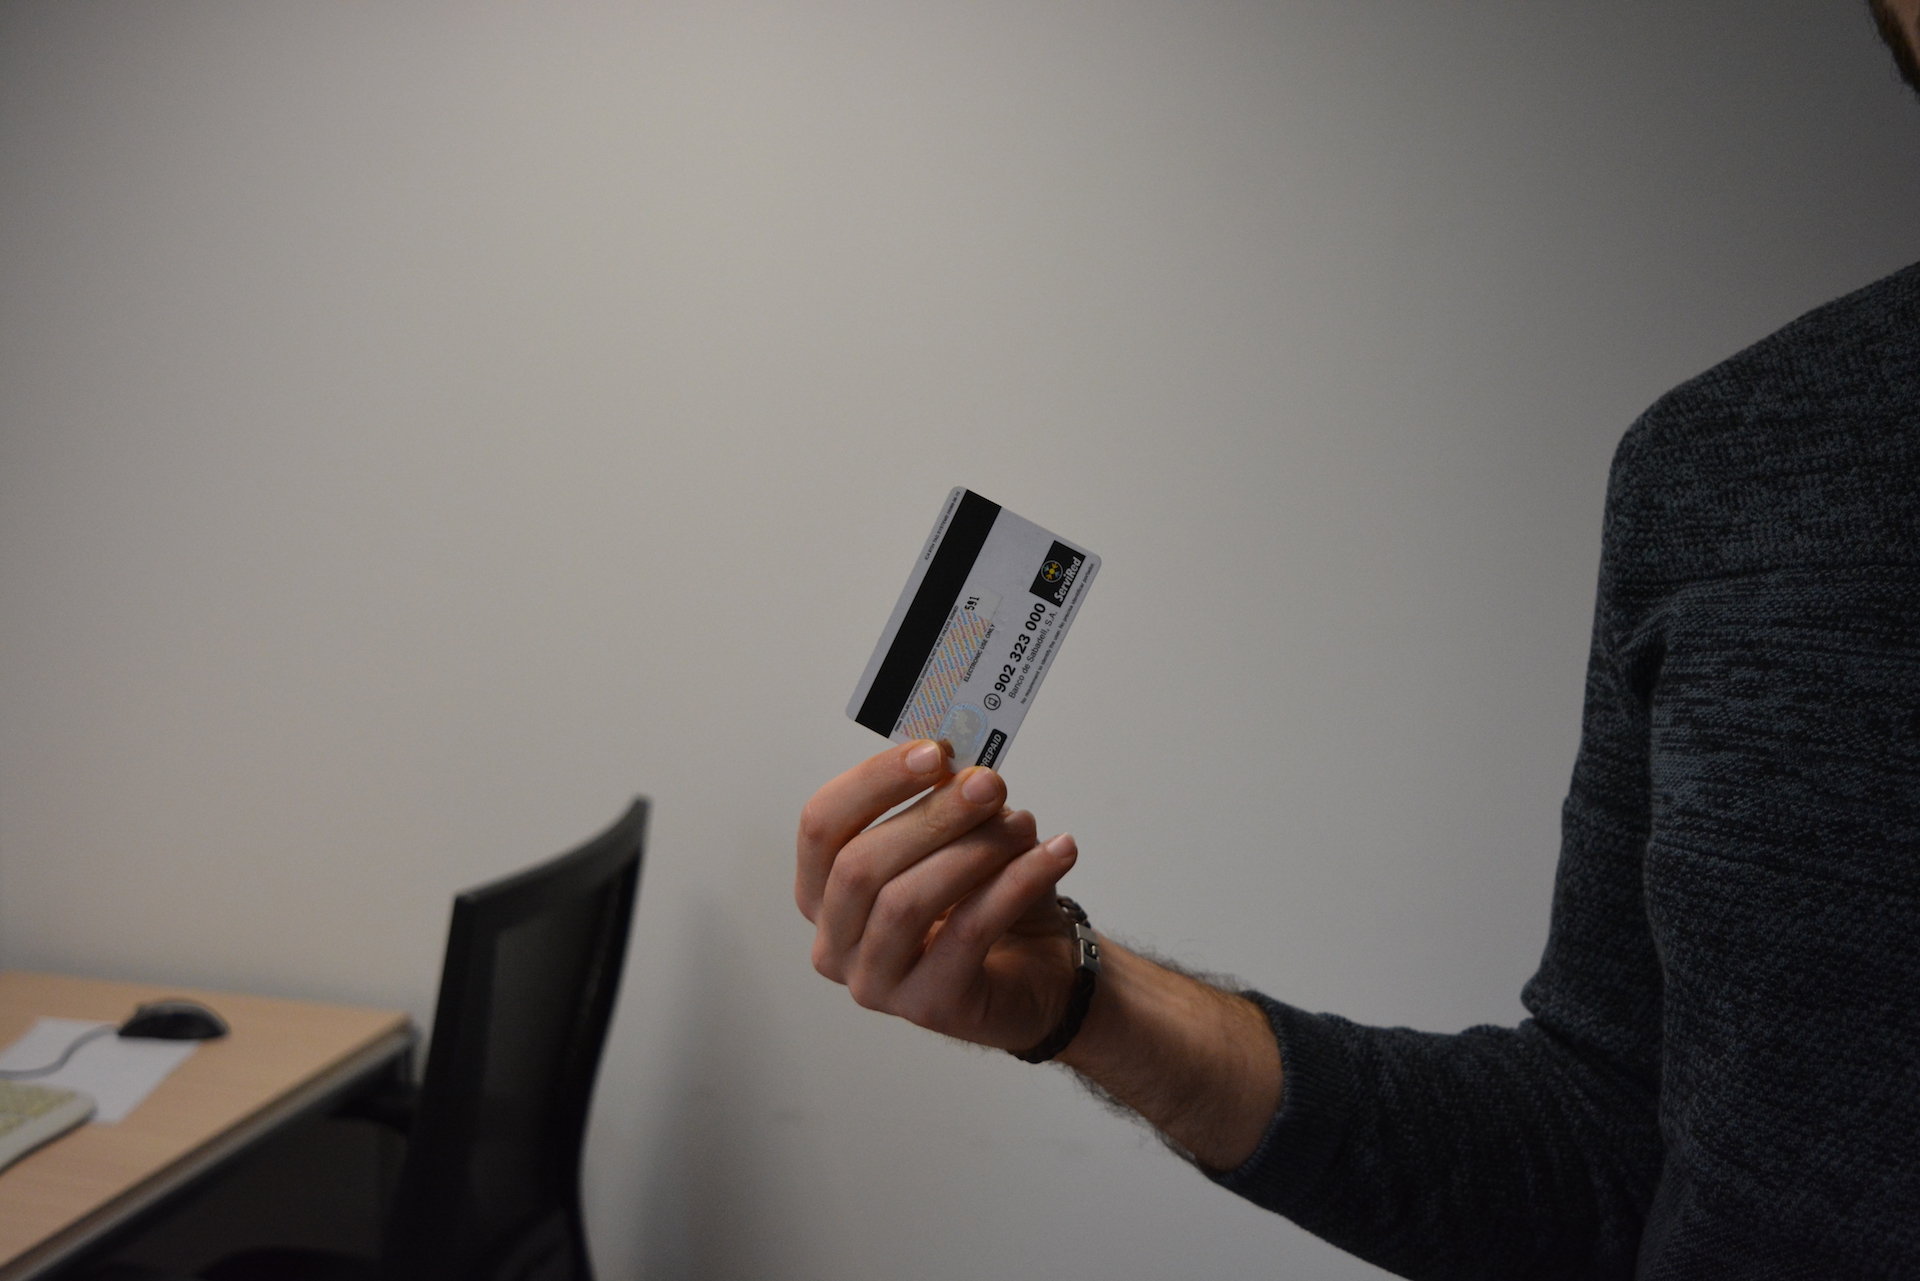tarjeta: (843, 485, 1104, 781)
